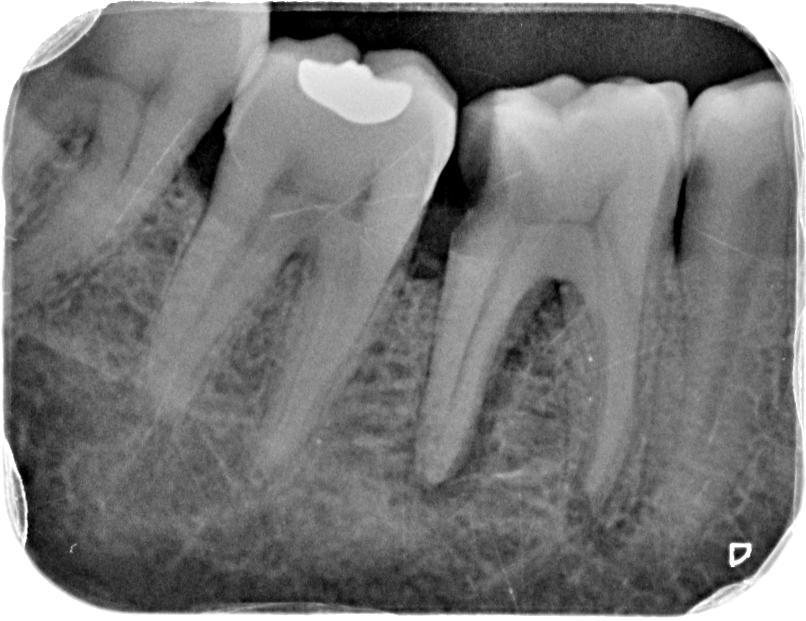individual-tooth-8tto: (149, 34, 465, 466), (413, 78, 695, 494)
